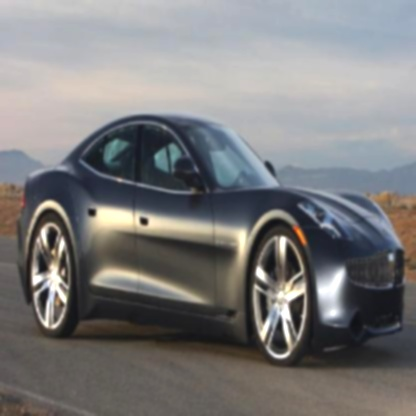Vehicle: (16, 112, 409, 372)
